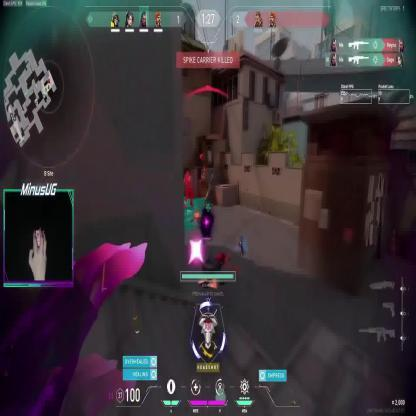enemy: (184, 170, 194, 208)
enemy_head: (186, 171, 190, 177)
